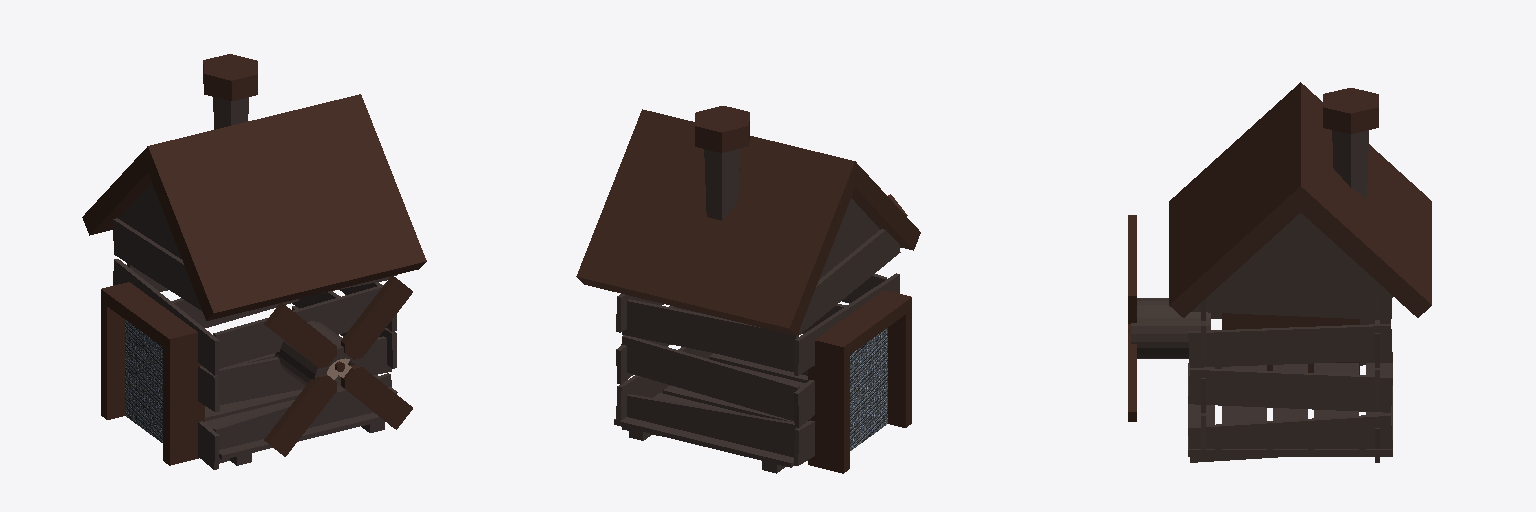
3 renders of one model, left to right at view 1: azimuth 30°, elevation 25°; view 2: azimuth 150°, elevation 25°; view 3: azimuth 270°, elevation 25°, orthographic.
Parts seen in each view (by area): view 1: roof, barricade_large, end, building_windmillWicks, platform_wood, hilt_handle_heavy, cylinderHollow; view 2: roof, barricade_large, end, hilt_handle_heavy, platform_wood; view 3: roof, barricade_large, platform_wood, hilt_handle_heavy, cylinderHollow, building_windmillWicks, end.
Boxes of the visible parts, <box> form: roof: <box>82,94,426,320</box>; barricade_large: <box>113,218,397,469</box>; end: <box>101,282,204,465</box>; building_windmillWicks: <box>264,275,412,456</box>; platform_wood: <box>205,353,384,465</box>; hilt_handle_heavy: <box>203,54,257,129</box>; cylinderHollow: <box>275,321,367,403</box>; roof: <box>576,109,920,335</box>; barricade_large: <box>616,229,900,465</box>; end: <box>808,290,911,473</box>; hilt_handle_heavy: <box>695,106,749,220</box>; platform_wood: <box>614,353,807,473</box>; roof: <box>1169,82,1431,317</box>; barricade_large: <box>1188,297,1392,462</box>; platform_wood: <box>1188,363,1392,456</box>; hilt_handle_heavy: <box>1323,88,1378,197</box>; cylinderHollow: <box>1131,298,1210,358</box>; building_windmillWicks: <box>1128,215,1136,421</box>; end: <box>1222,313,1359,374</box>.
Bounding box in the file's own units: 1.3 × 1.73 × 1.49.
Materials: 4 (1 with a texture image).